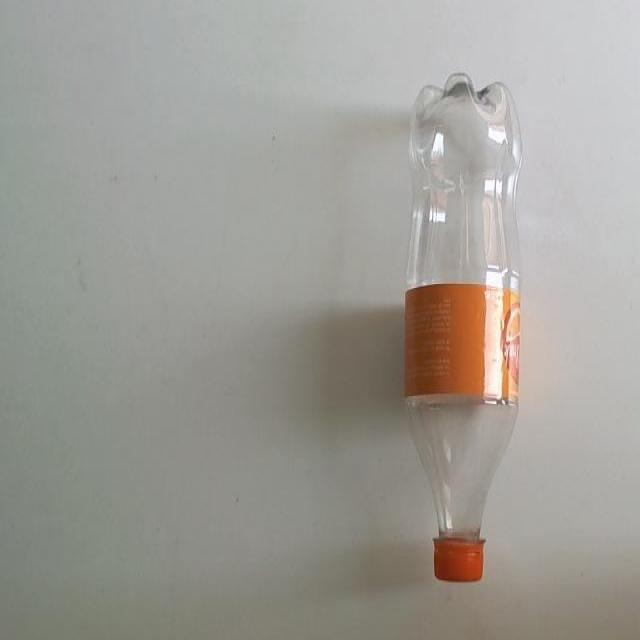non-defect: (401, 70, 525, 584)
